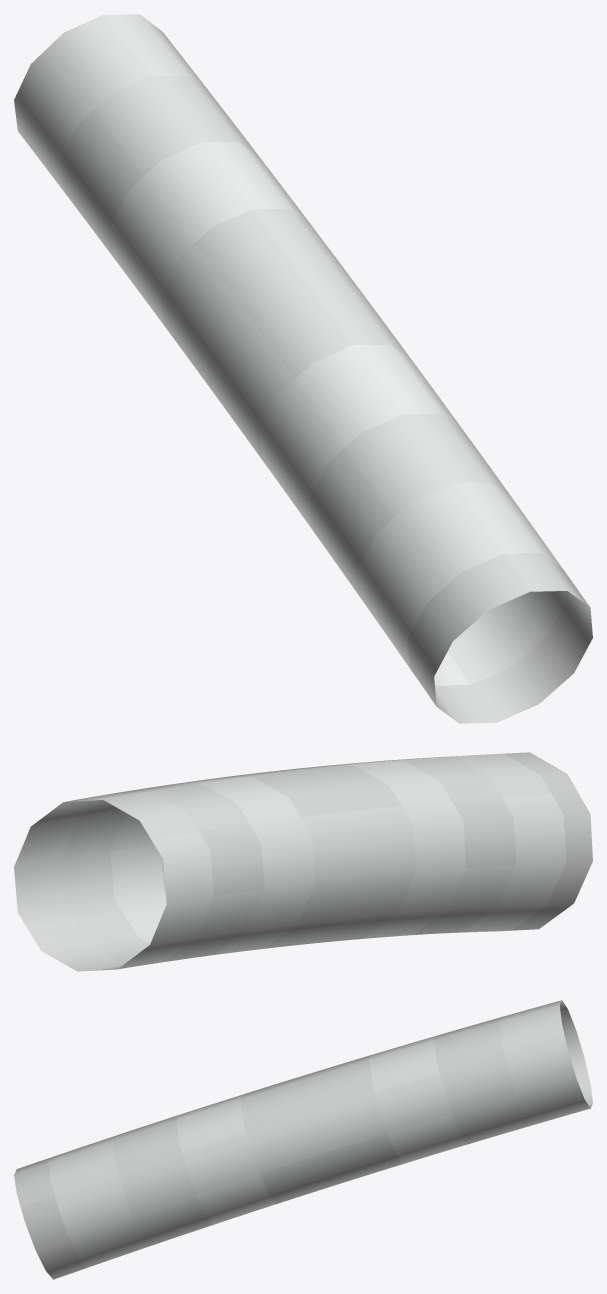
File: luminairearm_caltrans15ftdouble_c2.obj
3 views of the same model, one above another, from view 1: azimuth 30°, elevation 25°; view 2: azimuth 150°, elevation 25°; view 3: azimuth 270°, elevation 25° (orthographic). The views are drawn at different scales.
Parts seen in each view (by area): view 1: luminairearm_caltrans15ftdouble_c2; view 2: luminairearm_caltrans15ftdouble_c2; view 3: luminairearm_caltrans15ftdouble_c2.
Boxes of the visible parts, bbox=[...] form: luminairearm_caltrans15ftdouble_c2: bbox=[14, 14, 592, 723]; luminairearm_caltrans15ftdouble_c2: bbox=[14, 752, 592, 971]; luminairearm_caltrans15ftdouble_c2: bbox=[14, 1000, 592, 1279].
Bounding box in the file's own units: 0.2167 × 0.5473 × 1.07.
